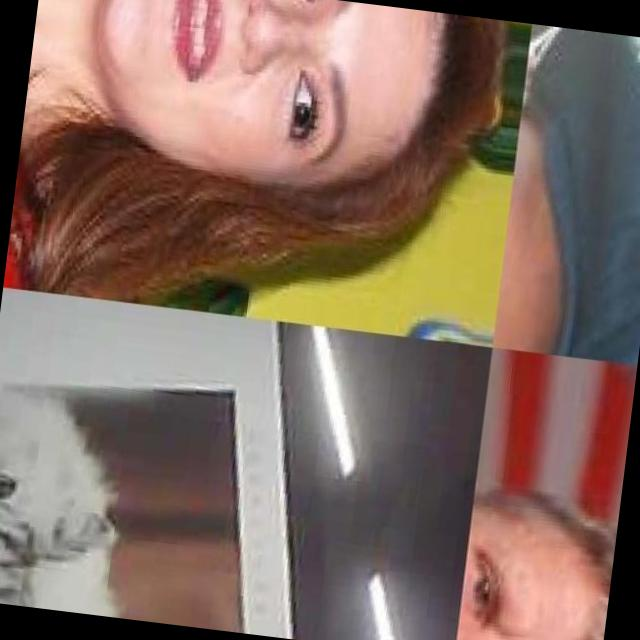bareface: (30, 0, 470, 241)
